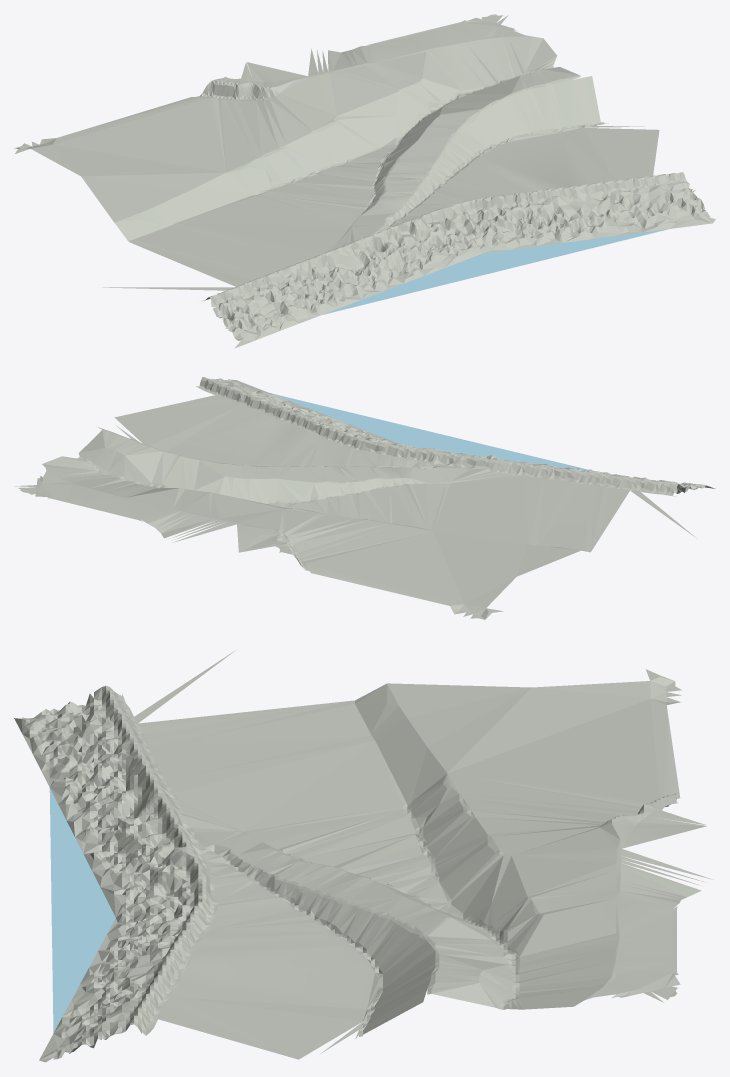
The model's file is terrain-context-D-x5-z0.glb.
3 renders of one model, top to bottom at view 1: azimuth 30°, elevation 25°; view 2: azimuth 150°, elevation 25°; view 3: azimuth 270°, elevation 25°, orthographic. The views are drawn at different scales.
Parts seen in each view (by area): view 1: D-x5-z0; view 2: D-x5-z0; view 3: D-x5-z0.
Part boxes in pixels (x1,y1,x2,y2): D-x5-z0: [14, 14, 715, 348]; D-x5-z0: [14, 377, 715, 619]; D-x5-z0: [14, 650, 713, 1062].
Bounding box in the file's own units: 121 × 9.82 × 87.39.
